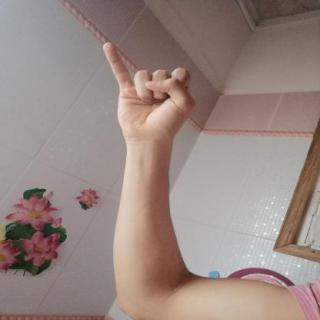MEEM: (85, 36, 207, 150)
